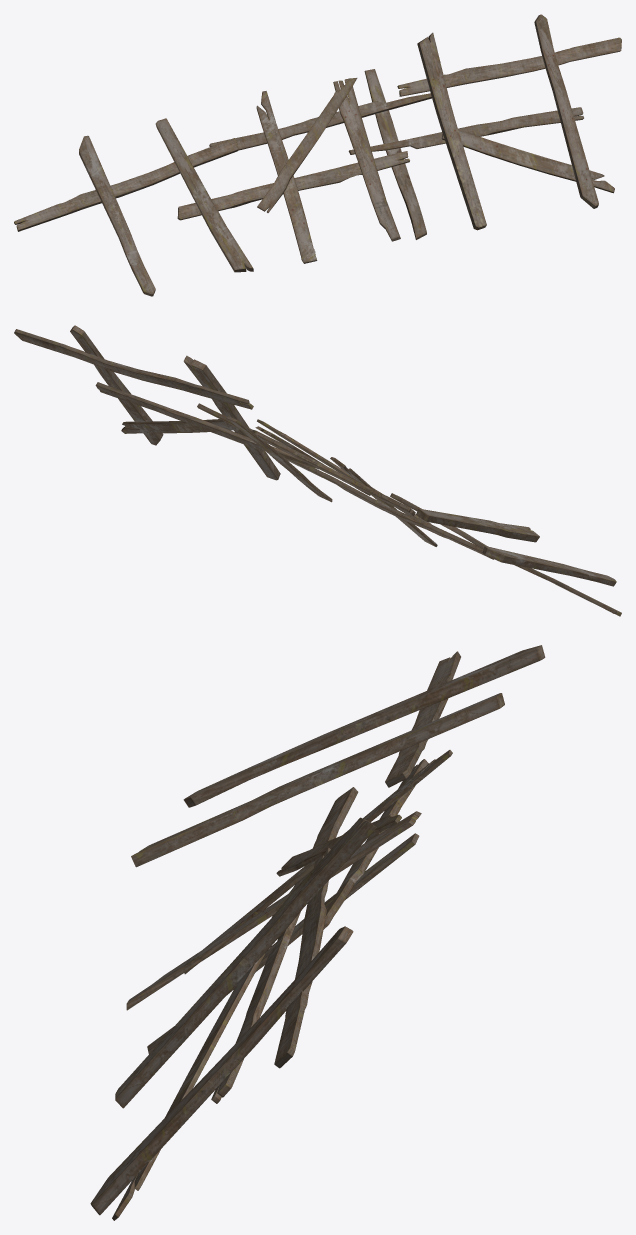
The model's file is SM_fence_01.gltf.
3 views of the same model, one above another, from view 1: azimuth 30°, elevation 25°; view 2: azimuth 150°, elevation 25°; view 3: azimuth 270°, elevation 25° (orthographic). The views are drawn at different scales.
Visible parts, largest first — view 1: SM_fence_01; view 2: SM_fence_01; view 3: SM_fence_01.
Boxes of the visible parts, x1,y1,x2,y2 form: SM_fence_01: [14, 14, 621, 296]; SM_fence_01: [14, 325, 621, 616]; SM_fence_01: [90, 645, 545, 1220].
Bounding box in the file's own units: 5.25 × 1.39 × 1.83.
1 material, 1 textured.
